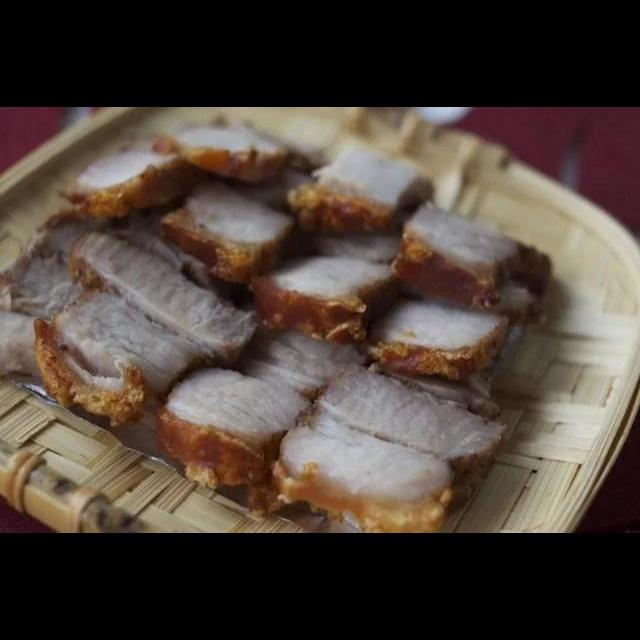thit heo quay: (258, 350, 512, 533), (150, 321, 366, 523), (29, 265, 236, 432), (62, 226, 262, 373), (383, 195, 554, 316), (245, 239, 410, 347), (276, 139, 440, 240), (160, 179, 305, 288), (31, 142, 199, 232), (365, 291, 518, 388), (159, 112, 291, 189)
